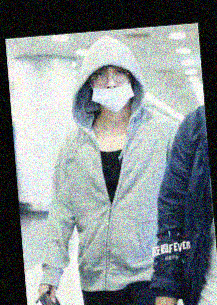mask_weared_incorrect: (88, 65, 134, 112)
